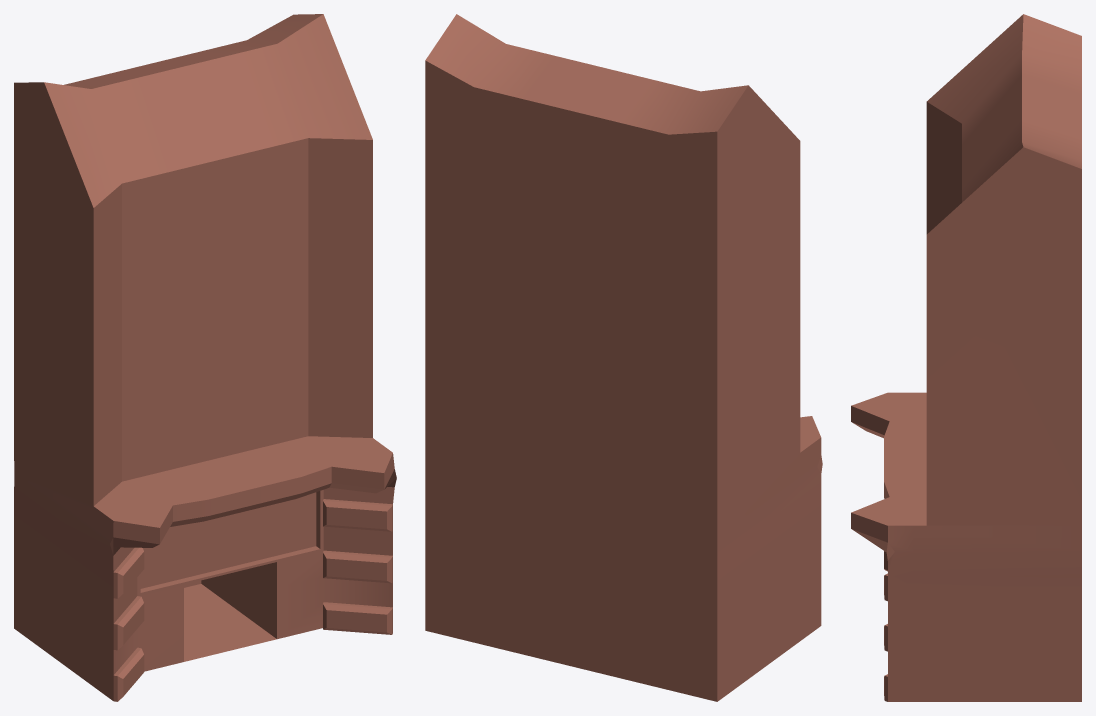
File: Center_building.fbx
3 renders of one model, left to right at view 1: azimuth 30°, elevation 25°; view 2: azimuth 150°, elevation 25°; view 3: azimuth 270°, elevation 25°, orthographic. The views are drawn at different scales.
Visible parts, largest first — view 1: Building_mainstreet; view 2: Building_mainstreet; view 3: Building_mainstreet.
Boxes of the visible parts, left/top/right/bottom form: Building_mainstreet: left=14, top=14, right=396, bottom=701; Building_mainstreet: left=425, top=14, right=822, bottom=701; Building_mainstreet: left=851, top=14, right=1081, bottom=701.
Bounding box in the file's own units: 24.54 × 46.99 × 17.73.
